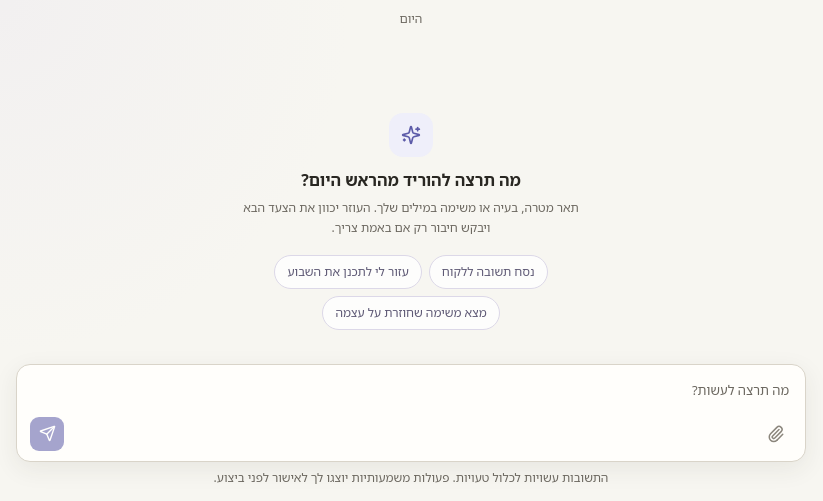
it: ChatScreen — suggestion chips › clicking a suggestion populates the composer instead of sending it
Click the button "נסח תשובה ללקוח". click: (488, 272)
box: [429, 255, 548, 289]
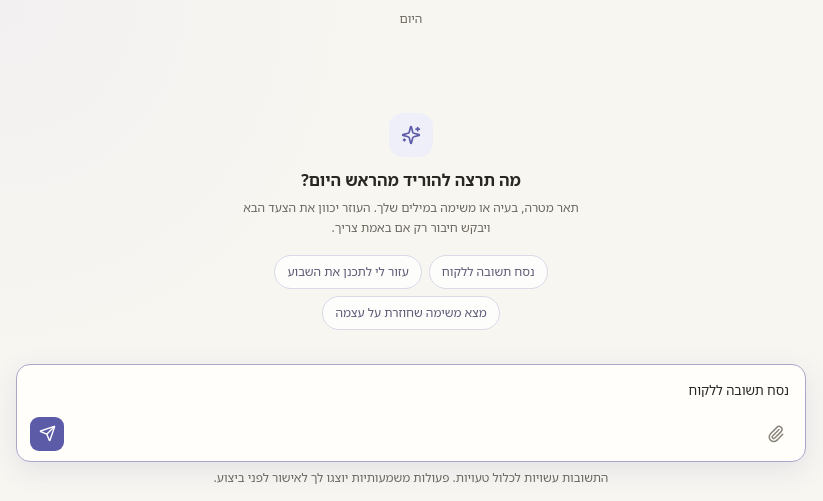
Result: the text box named "הודעה לעוזר" holds "נסח תשובה ללקוח" at [30, 377, 792, 412]
